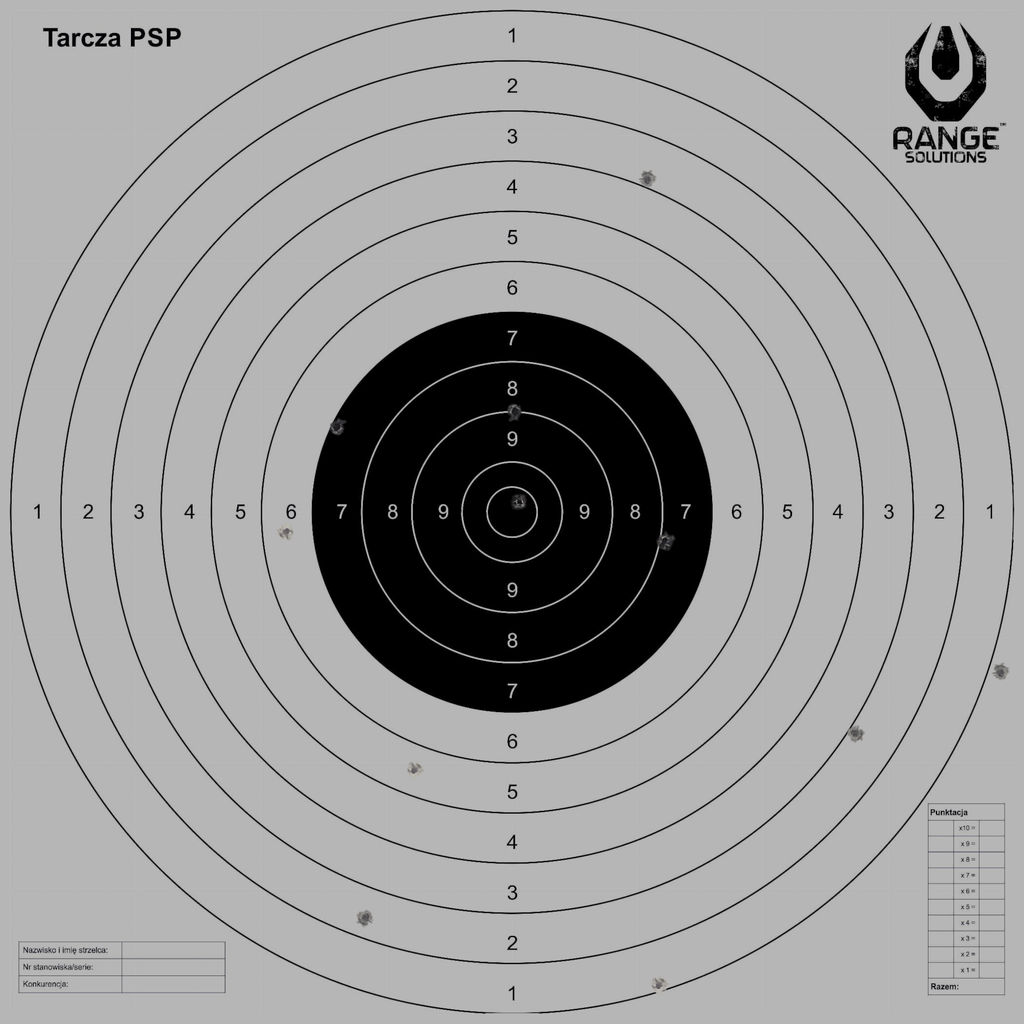0 punktow: (992, 663, 1010, 682)
1 punkt: (650, 976, 668, 995)
10 punktow: (511, 493, 529, 512)
2 punkty: (356, 908, 375, 927)
3 punkty: (846, 724, 864, 743)
4 punkty: (638, 170, 657, 189)
5 punktow: (405, 761, 423, 779)
6 punktow: (277, 523, 296, 541)
7 punktow: (328, 418, 346, 436)
8 punktow: (656, 531, 674, 550)
9 punktow: (506, 403, 524, 421)
